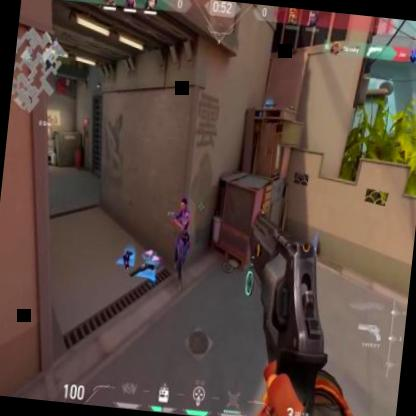enemy: (168, 198, 194, 288)
enemy_head: (178, 196, 188, 212)
